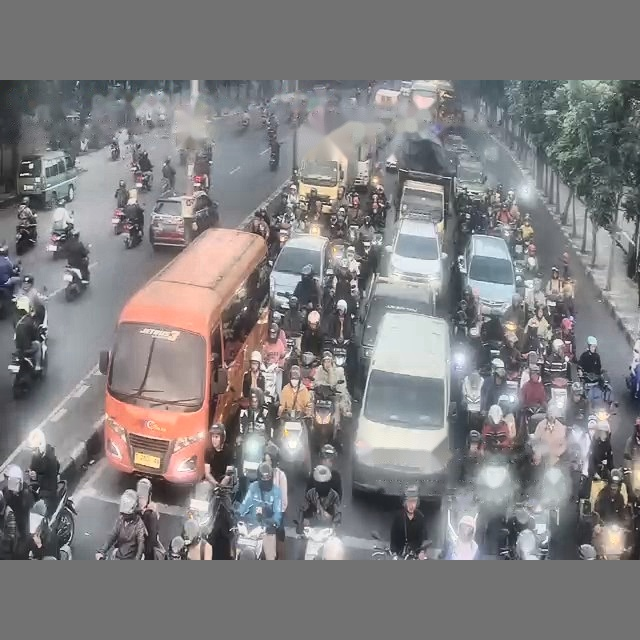Bis: (99, 229, 269, 484)
